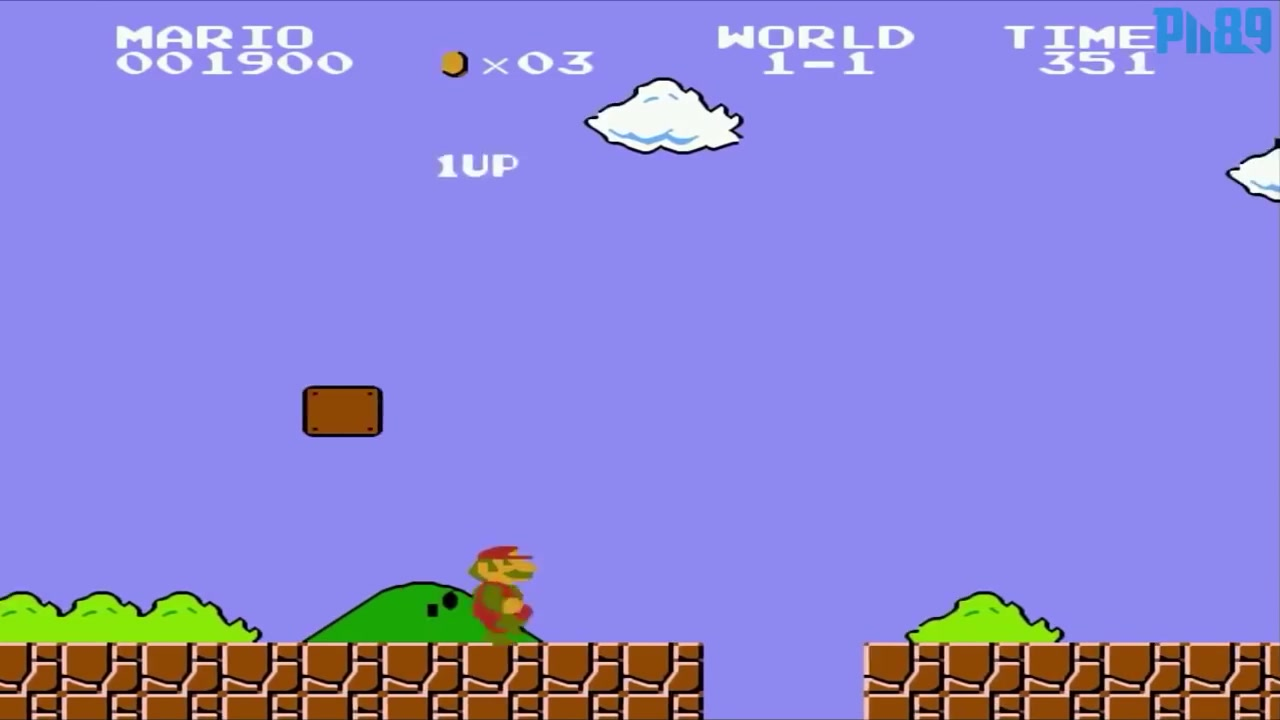mario: (460, 542, 536, 648)
